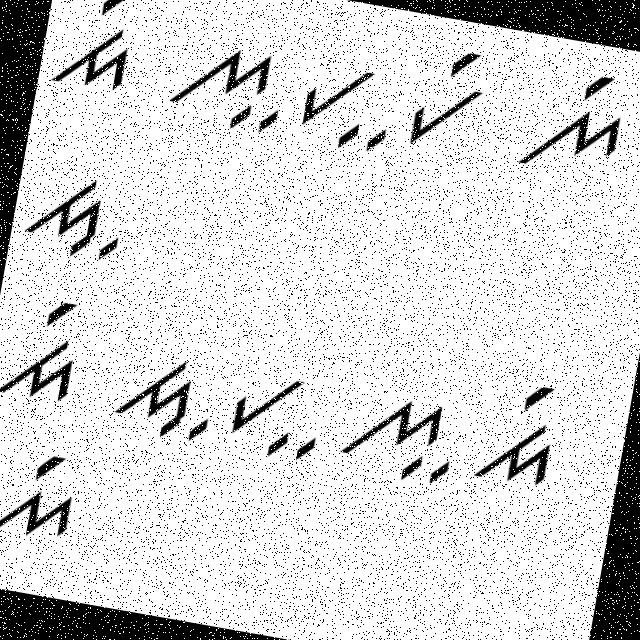dah: (105, 336, 226, 450), (14, 160, 133, 266)
dang: (461, 364, 572, 493), (0, 289, 98, 413), (48, 0, 147, 98)
nah: (335, 378, 466, 494), (160, 34, 292, 136)
nang: (512, 54, 638, 185), (0, 435, 87, 565)
pah: (220, 358, 330, 464), (294, 54, 402, 160)
pang: (401, 41, 499, 159)
